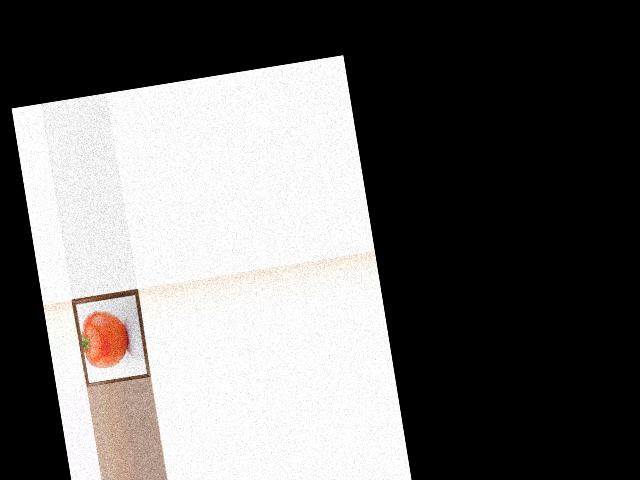tomato: (77, 307, 132, 370)
